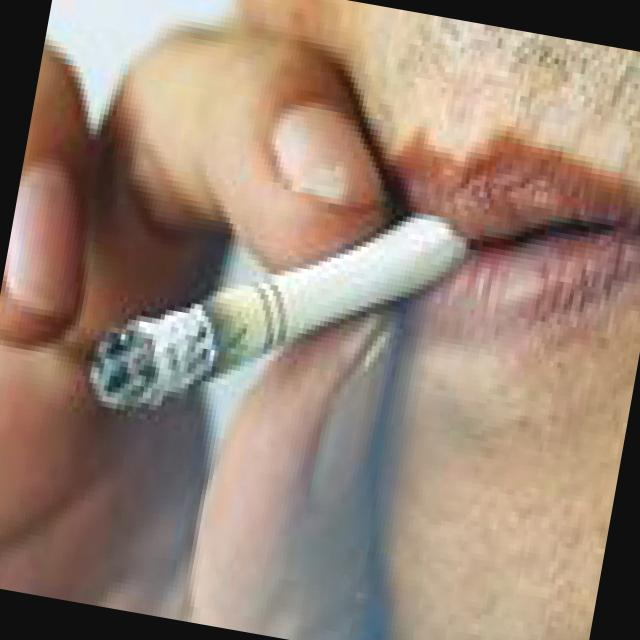cigarette: (65, 164, 507, 476)
